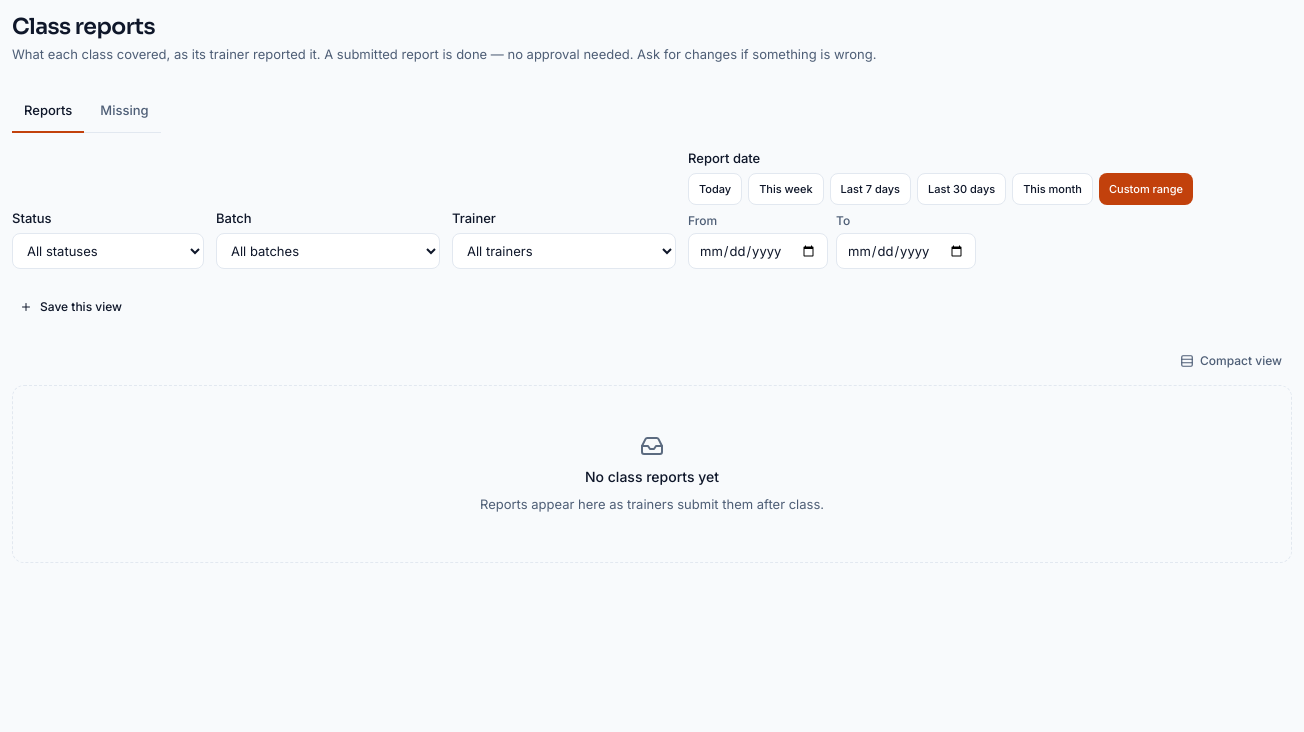
Test case: DsrQueue loading, error and empty states › reads an empty filtered view as plain "no results", not as good news
Select "Seen by a manager" in the dropdown labelled "Status" at (108, 252), box [12,234,204,270]
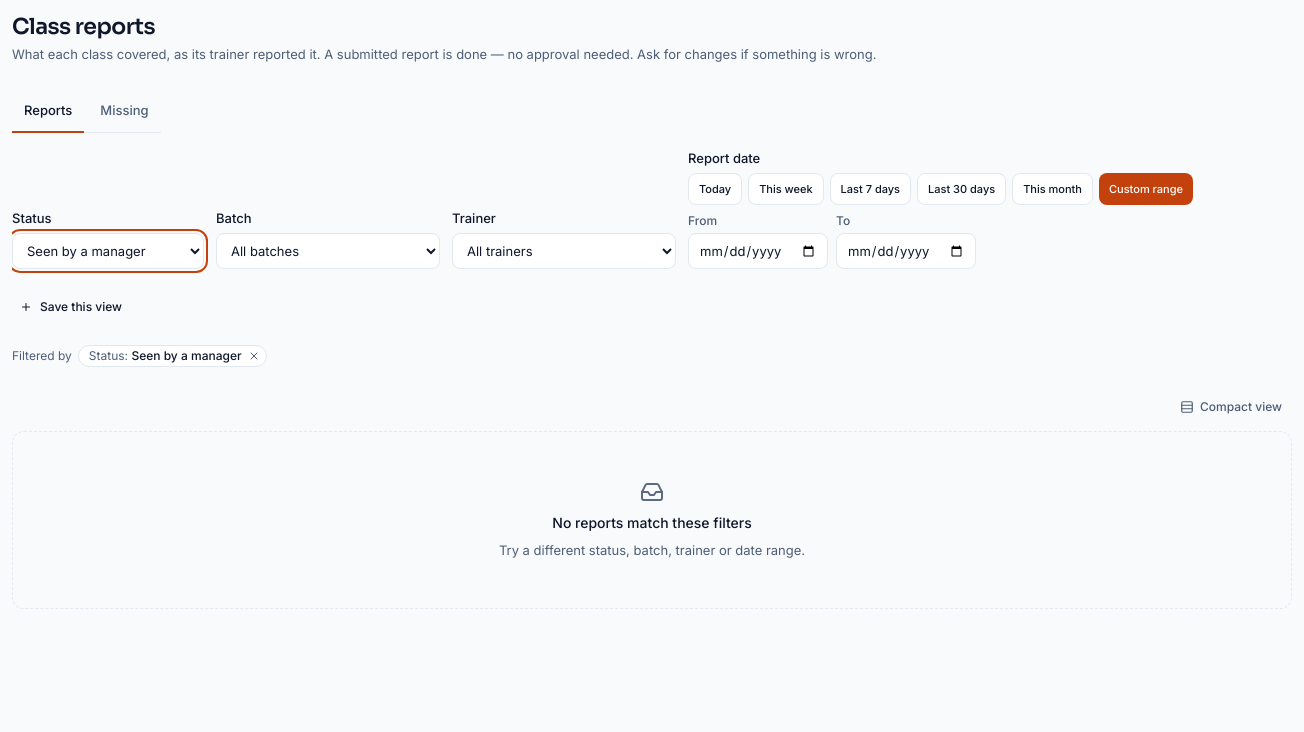
Expected: the text "No reports match these filters" is shown, [552,512,752,534]
Expected: the text "No class reports yet" is gone
